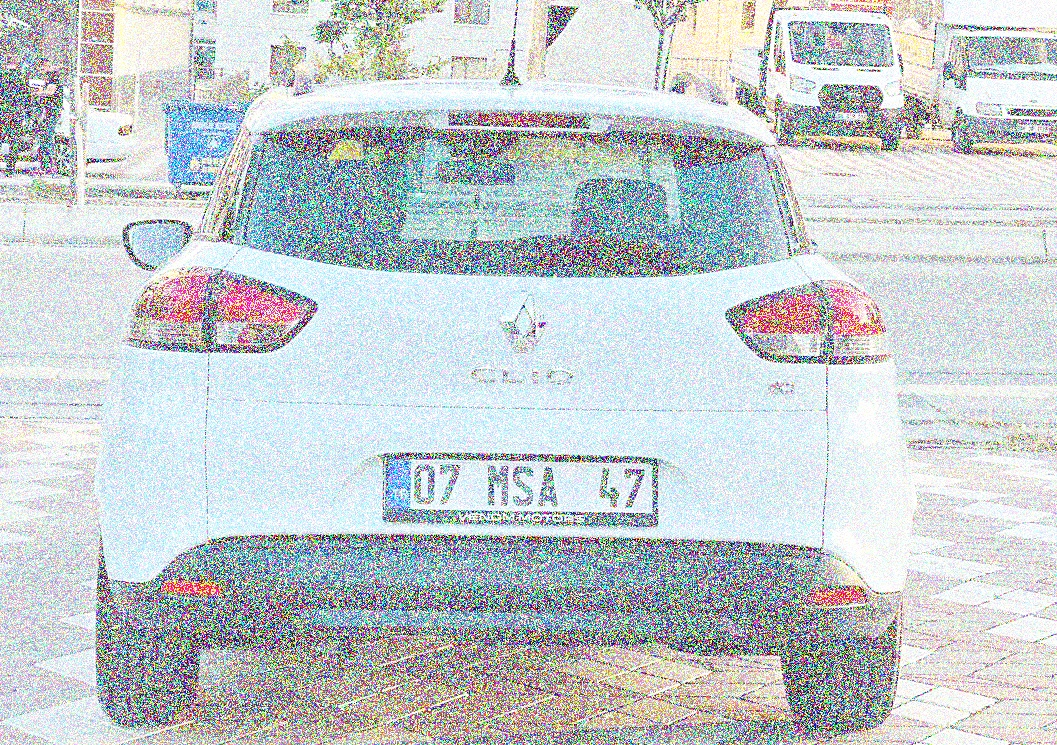plaka: (405, 450, 650, 519)
